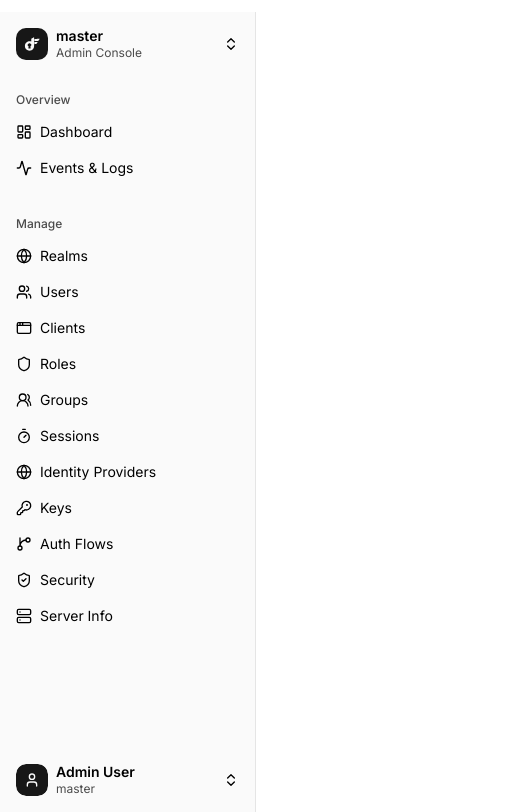
Test case: AppSidebar RealmSwitcher › shows an empty state when no realms exist
Click the 1st text "master": [80, 36] box [56,27,103,44]
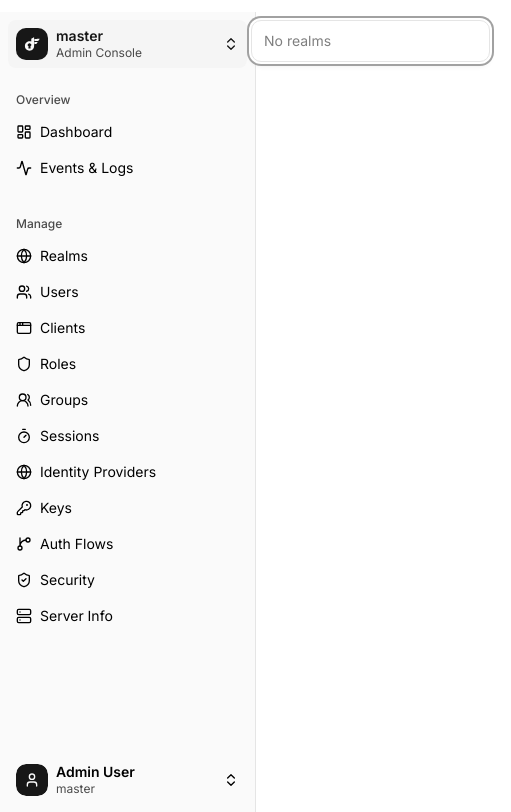
Expected: the menu item "No realms" is shown, [264,32,331,49]
